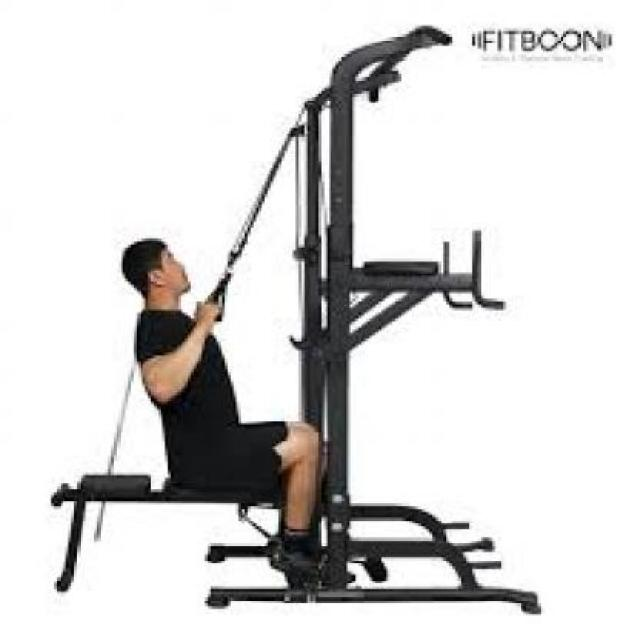chinning dipping: (308, 23, 540, 614)
